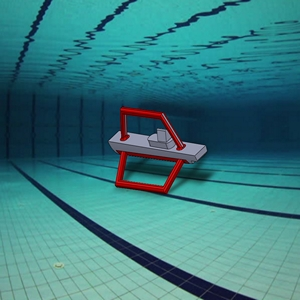submarine: (97, 97, 224, 205)
